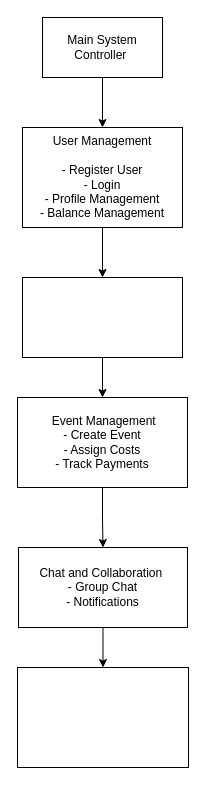
Some shapes in this 206 by 785 pixel diagram are drawn without their labels. Each missing label, with the centre of its shape:
Group Managemen t - Create Group - Join Group - Manage Group: pixel 102 317
Security and Compliance - Transaction Limit - Data Encryption - Audit Log: pixel 102 717
